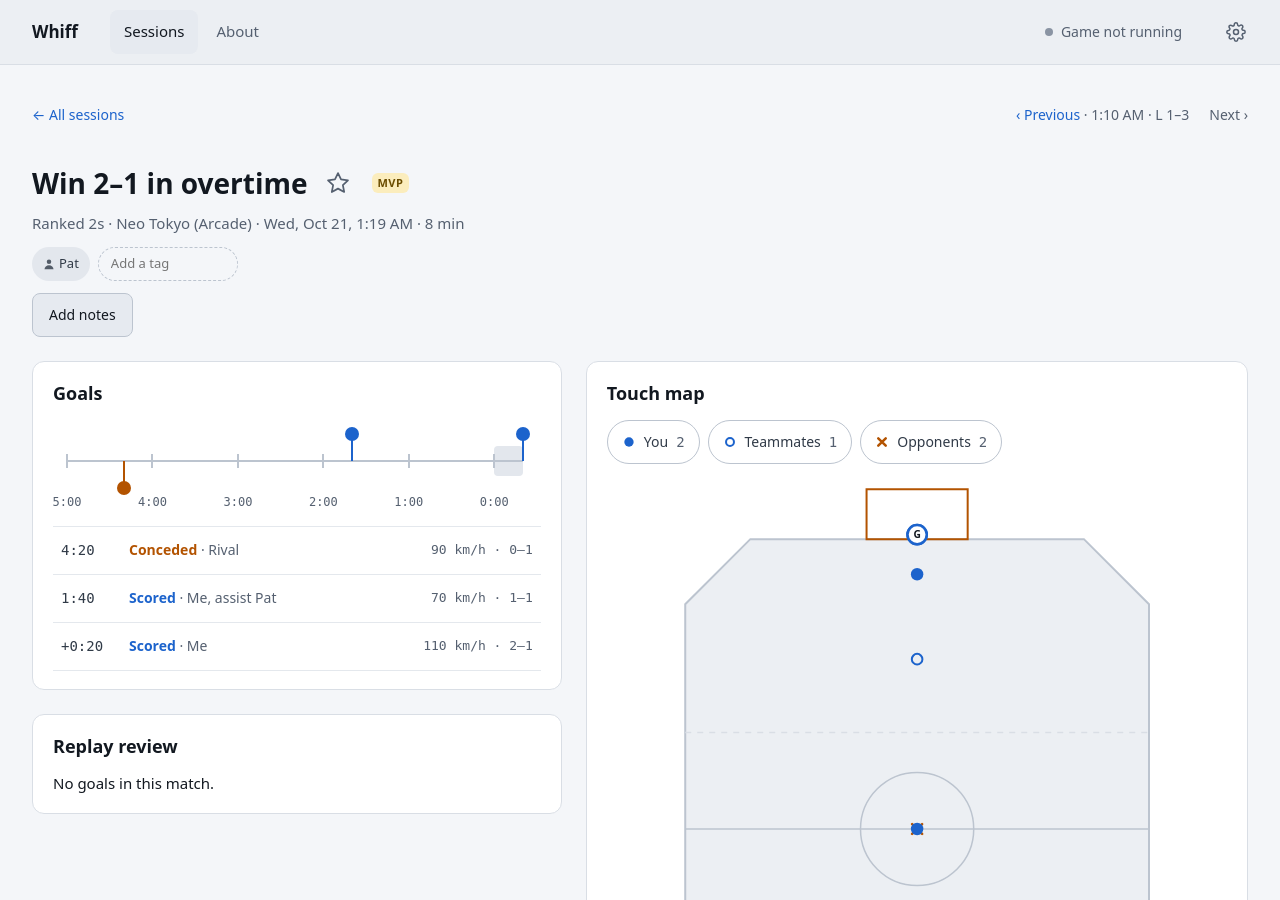
Scenario: Match screen › filters the map by whose touches
Click the button "Opponents 2": (931, 442) 860,420 -> 1002,464
(page scrolled)
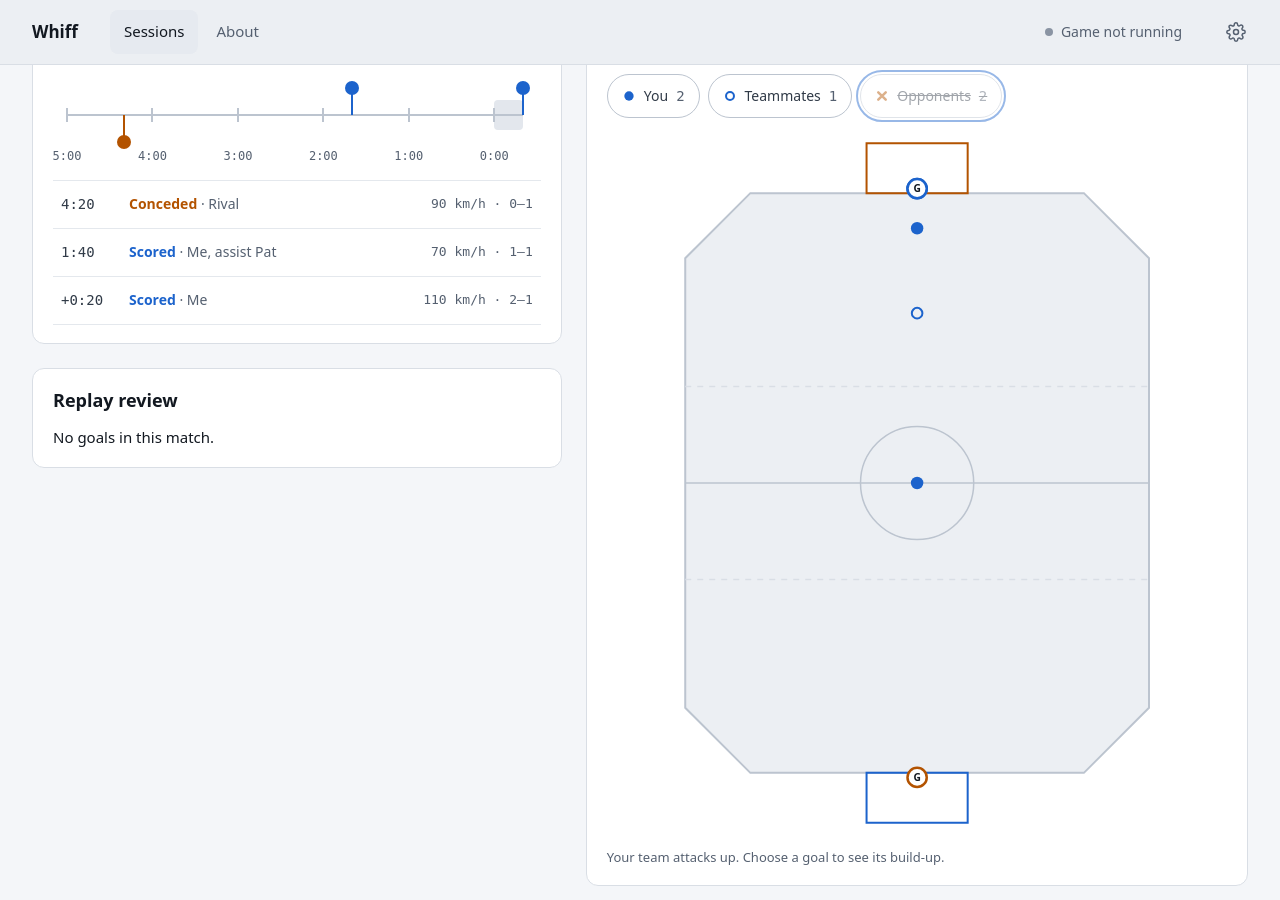
Expected: the picture named "3 touches on the field" is shown, 607,132 -> 1227,834
